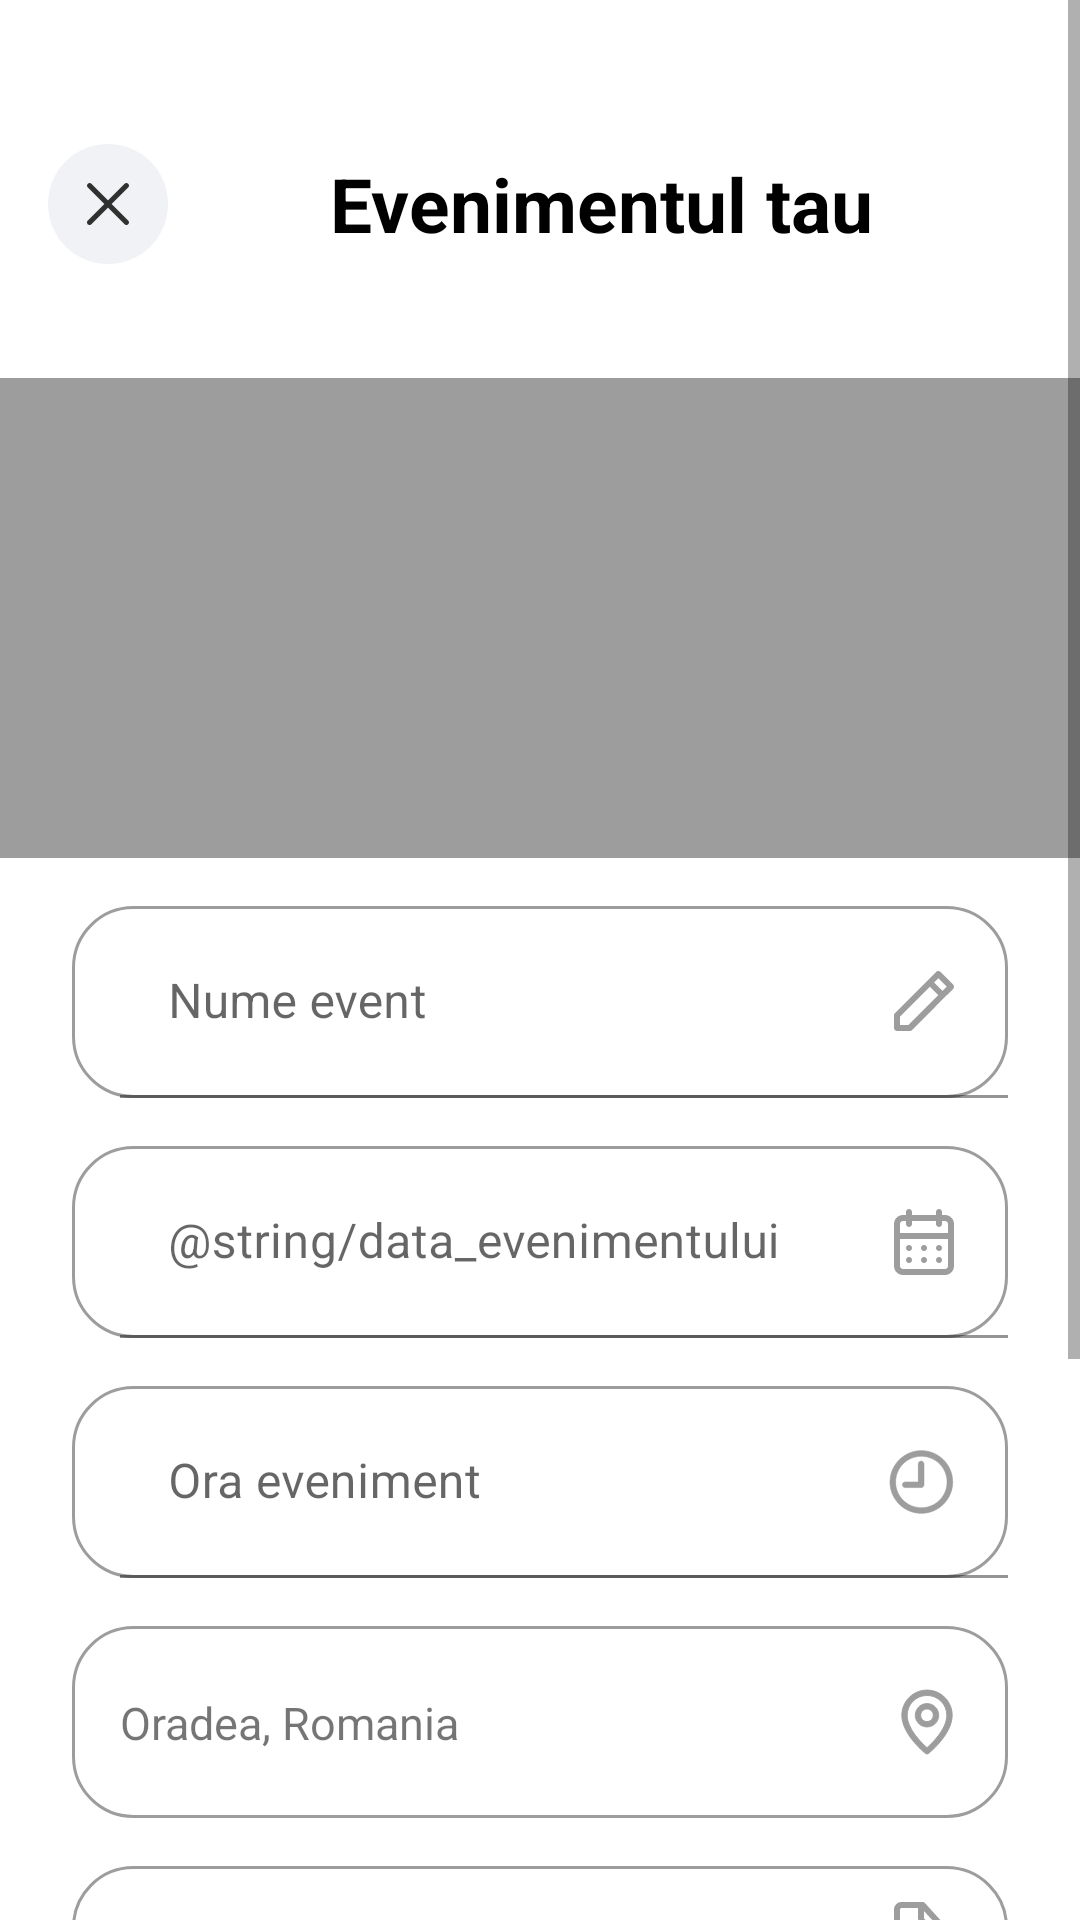

Icons on this 1080 x 1920 Android screen, each with the point to tap as [x,y]:
date: [924,1242]
eventname: [924,1001]
location: [927,1722]
time: [921,1482]
